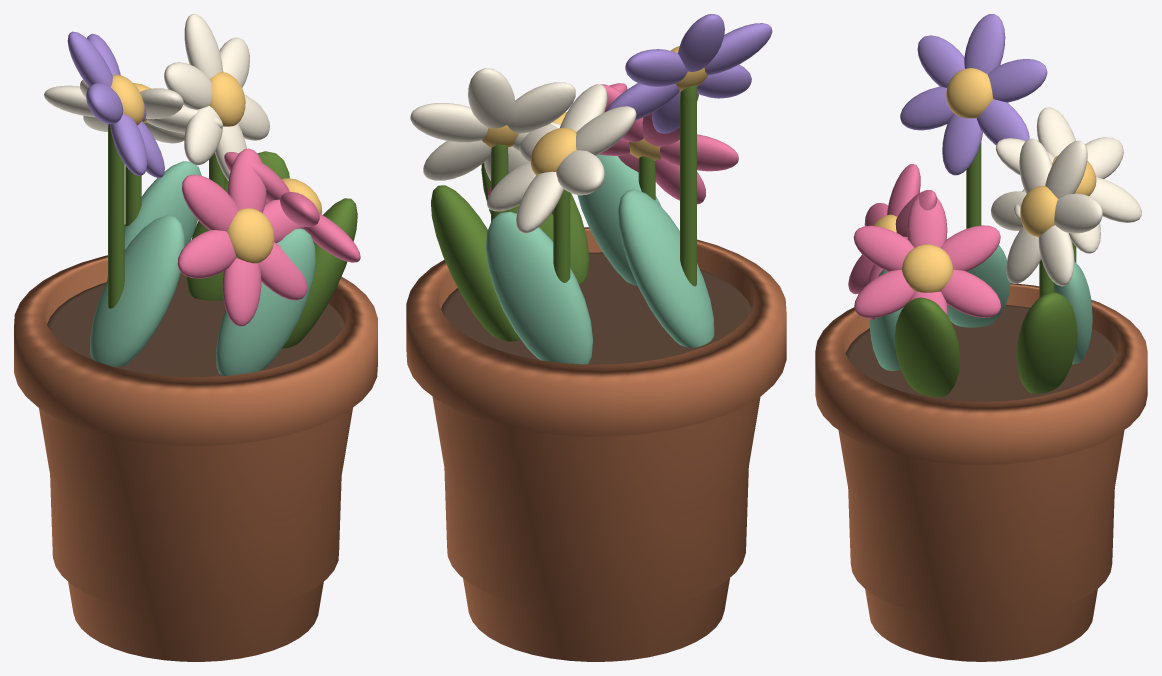
Rendered from flower-planter-pink.obj.
3 views of the same model, side by side, from view 1: azimuth 30°, elevation 25°; view 2: azimuth 150°, elevation 25°; view 3: azimuth 270°, elevation 25° (orthographic). The views are drawn at different scales.
Parts seen in each view (by area): view 1: flower-planter-pink_terracotta, flower-planter-pink_mint, flower-planter-pink_petalPink, flower-planter-pink_cream, flower-planter-pink_cocoa, flower-planter-pink_leaf, flower-planter-pink_petalLilac, flower-planter-pink_seed; view 2: flower-planter-pink_terracotta, flower-planter-pink_mint, flower-planter-pink_cream, flower-planter-pink_leaf, flower-planter-pink_cocoa, flower-planter-pink_petalLilac, flower-planter-pink_petalPink, flower-planter-pink_seed; view 3: flower-planter-pink_terracotta, flower-planter-pink_cream, flower-planter-pink_petalPink, flower-planter-pink_leaf, flower-planter-pink_petalLilac, flower-planter-pink_cocoa, flower-planter-pink_seed, flower-planter-pink_mint.
Part boxes in pixels (left/top/right/bottom): flower-planter-pink_terracotta: left=14, top=255, right=377, bottom=661; flower-planter-pink_mint: left=90, top=161, right=315, bottom=375; flower-planter-pink_petalPink: left=177, top=148, right=360, bottom=326; flower-planter-pink_cream: left=44, top=14, right=269, bottom=180; flower-planter-pink_cocoa: left=47, top=272, right=344, bottom=377; flower-planter-pink_leaf: left=108, top=124, right=357, bottom=348; flower-planter-pink_petalLilac: left=67, top=31, right=164, bottom=177; flower-planter-pink_seed: left=111, top=72, right=322, bottom=263; flower-planter-pink_terracotta: left=406, top=227, right=786, bottom=661; flower-planter-pink_mint: left=486, top=154, right=714, bottom=364; flower-planter-pink_cream: left=410, top=68, right=636, bottom=233; flower-planter-pink_leaf: left=431, top=85, right=696, bottom=341; flower-planter-pink_cocoa: left=441, top=252, right=751, bottom=364; flower-planter-pink_petalLilac: left=606, top=14, right=772, bottom=133; flower-planter-pink_petalPink: left=487, top=83, right=738, bottom=204; flower-planter-pink_seed: left=481, top=46, right=707, bottom=175; flower-planter-pink_terracotta: left=815, top=283, right=1147, bottom=661; flower-planter-pink_cream: left=991, top=107, right=1141, bottom=286; flower-planter-pink_petalPink: left=848, top=164, right=1001, bottom=319; flower-planter-pink_leaf: left=895, top=142, right=1077, bottom=397; flower-planter-pink_petalLilac: left=900, top=14, right=1047, bottom=175; flower-planter-pink_cocoa: left=845, top=305, right=1117, bottom=401; flower-planter-pink_seed: left=873, top=68, right=1096, bottom=292; flower-planter-pink_mint: left=869, top=245, right=1092, bottom=370.
Bounding box in the file's own units: 0.356 × 0.6477 × 0.356.
